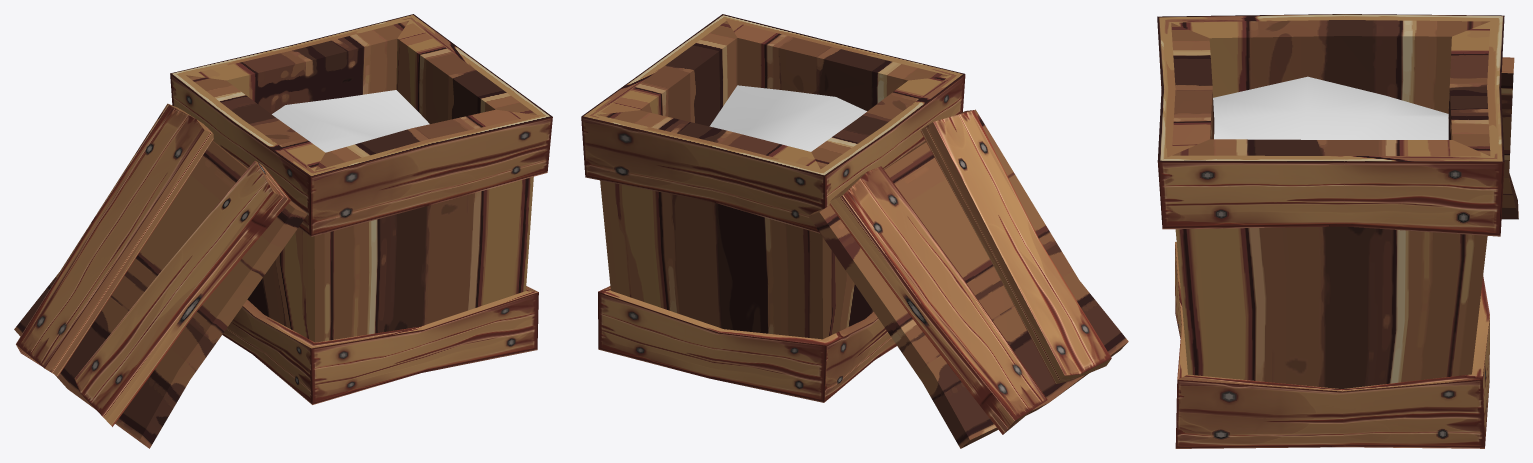
Rendered from SM_PROP_box_02.fbx.
The picture shows the model from 3 angles, left to right: view 1: azimuth 30°, elevation 25°; view 2: azimuth 150°, elevation 25°; view 3: azimuth 270°, elevation 25°; orthographic projection. The views are drawn at different scales.
Parts seen in each view (by area): view 1: SM_PROP_box_02, SM_PROP_box_lid_02; view 2: SM_PROP_box_02, SM_PROP_box_lid_02; view 3: SM_PROP_box_02, SM_PROP_box_lid_02.
Boxes of the visible parts, <box> form: SM_PROP_box_02: <box>170,14,552,404</box>; SM_PROP_box_lid_02: <box>14,103,307,448</box>; SM_PROP_box_02: <box>581,14,965,402</box>; SM_PROP_box_lid_02: <box>808,109,1128,448</box>; SM_PROP_box_02: <box>1157,14,1504,448</box>; SM_PROP_box_lid_02: <box>1501,57,1518,219</box>.
Bounding box in the file's own units: 157 × 85.83 × 94.26.
